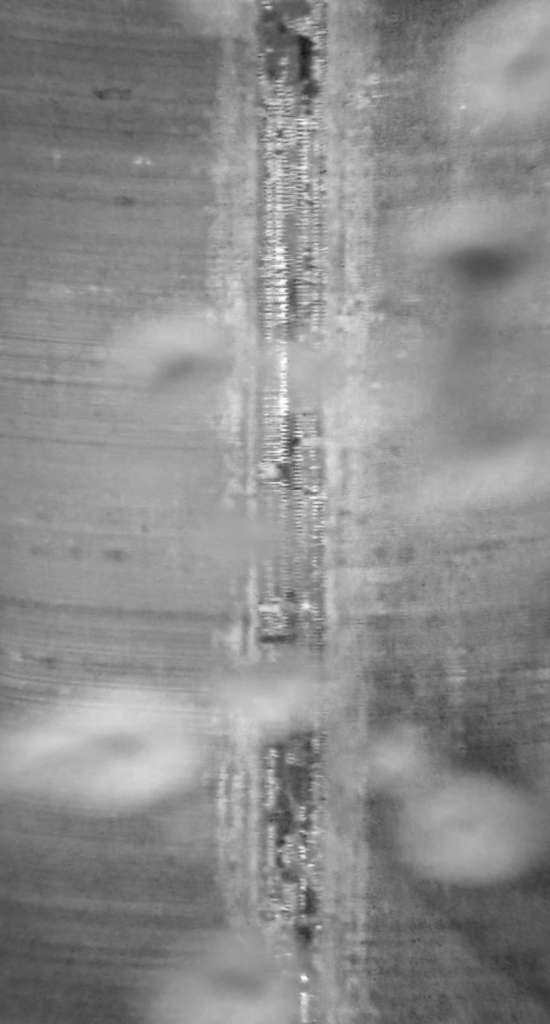splice: (242, 1, 334, 1024)
